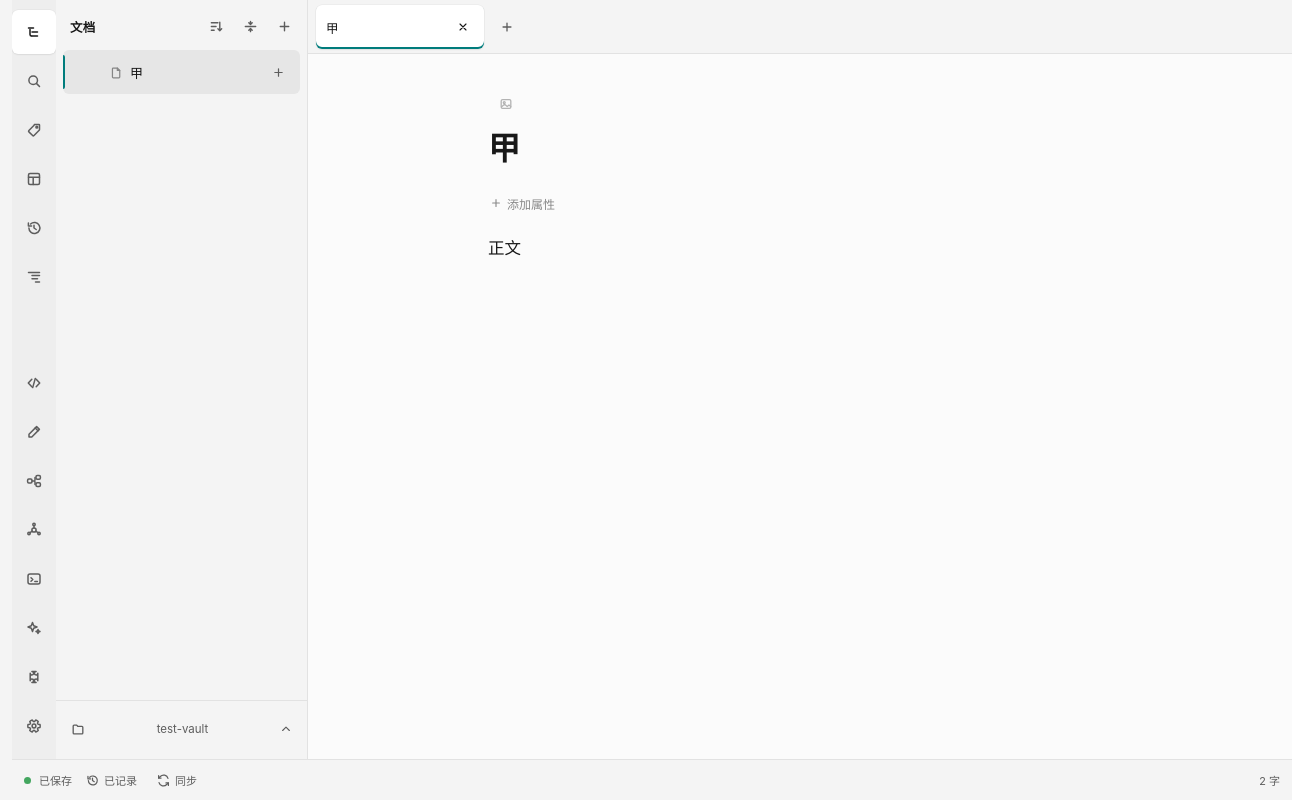
侧栏里的动态 › 列出每一版，新的在前，时间是人话
Click the button named "动态". click: (34, 228)
box: [12, 206, 56, 250]
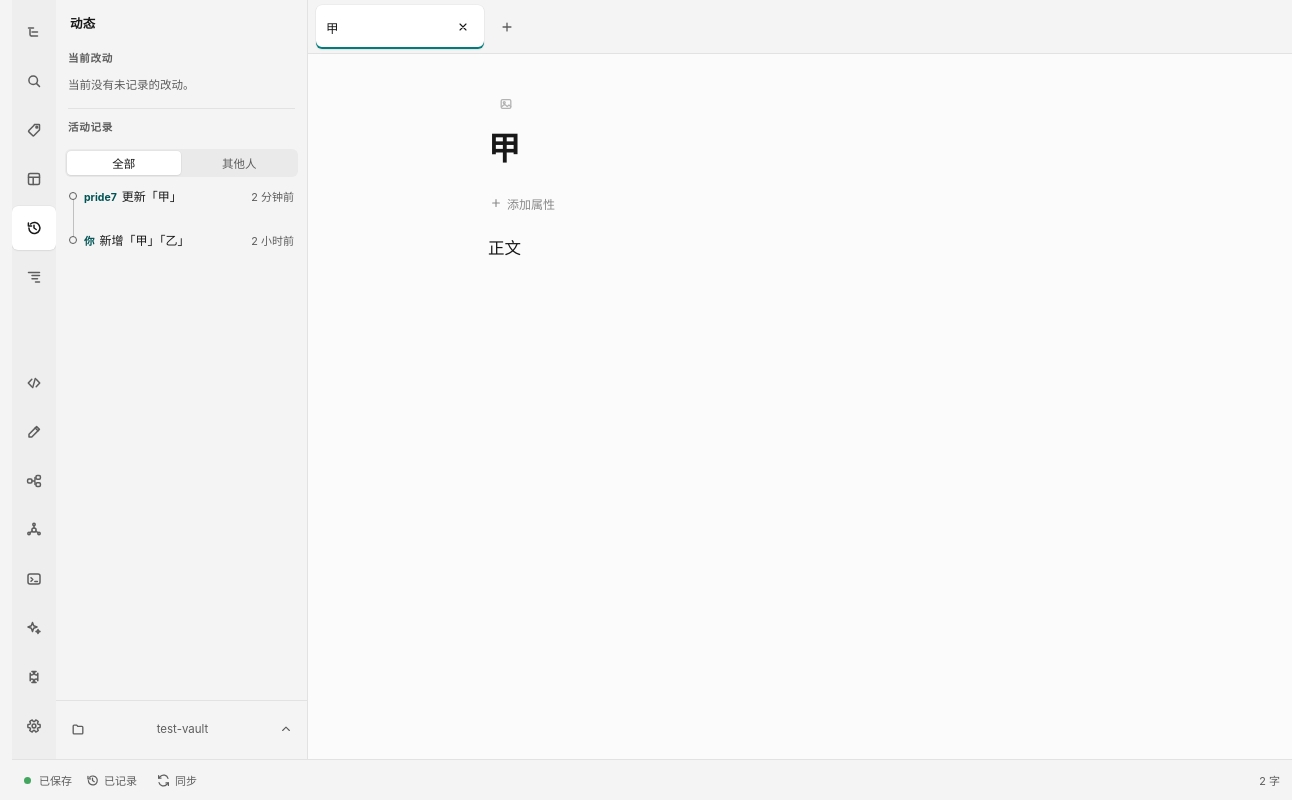
Expected: the element with class "hist-when" does not show "2 分钟前"
Expected: the text with class "hist-when" reads "2 分钟前", [251, 190, 294, 204]
